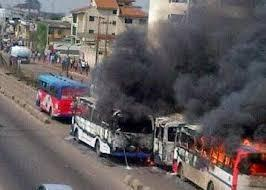fire: (189, 123, 264, 173)
